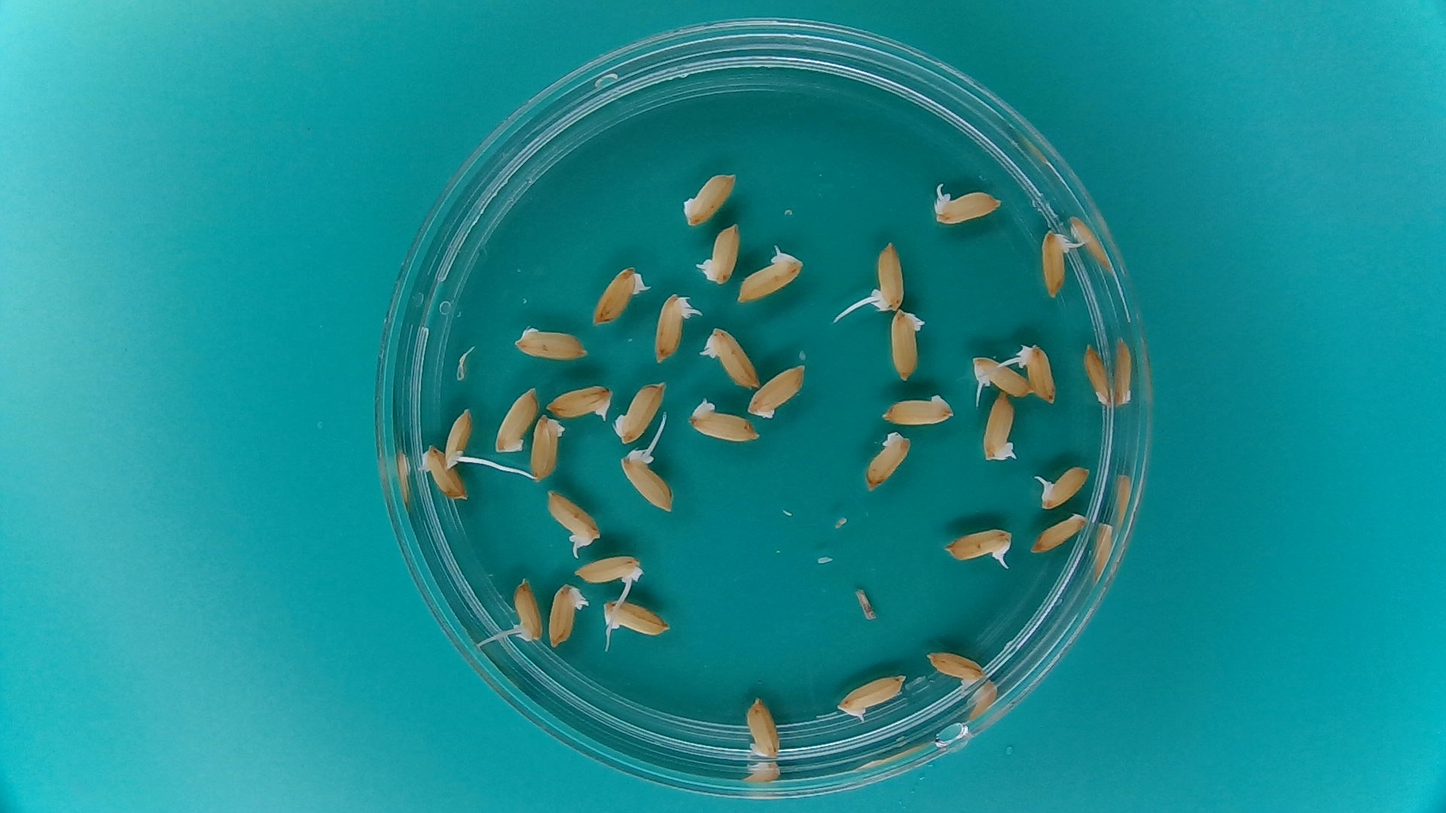no: (587, 261, 653, 326), (612, 376, 669, 446), (746, 361, 810, 422), (507, 319, 595, 363), (859, 427, 915, 496), (679, 167, 740, 229), (685, 397, 762, 446), (416, 441, 471, 503), (886, 304, 929, 383), (875, 389, 959, 429), (526, 412, 569, 485), (493, 386, 539, 454), (1028, 507, 1091, 556), (743, 691, 784, 763), (923, 646, 987, 690), (1078, 339, 1115, 410)
yes: (618, 429, 676, 518), (731, 242, 808, 304), (542, 486, 605, 557), (699, 321, 762, 390), (649, 289, 700, 367), (834, 670, 909, 722), (926, 181, 1007, 227), (1036, 224, 1083, 302), (694, 217, 743, 288), (938, 523, 1016, 567), (865, 236, 907, 314), (979, 389, 1021, 467), (545, 579, 591, 650), (968, 352, 1036, 400), (1029, 460, 1094, 510), (599, 597, 674, 639), (544, 380, 618, 422), (570, 551, 649, 589), (1017, 338, 1060, 407), (506, 573, 544, 648), (444, 403, 477, 473)
